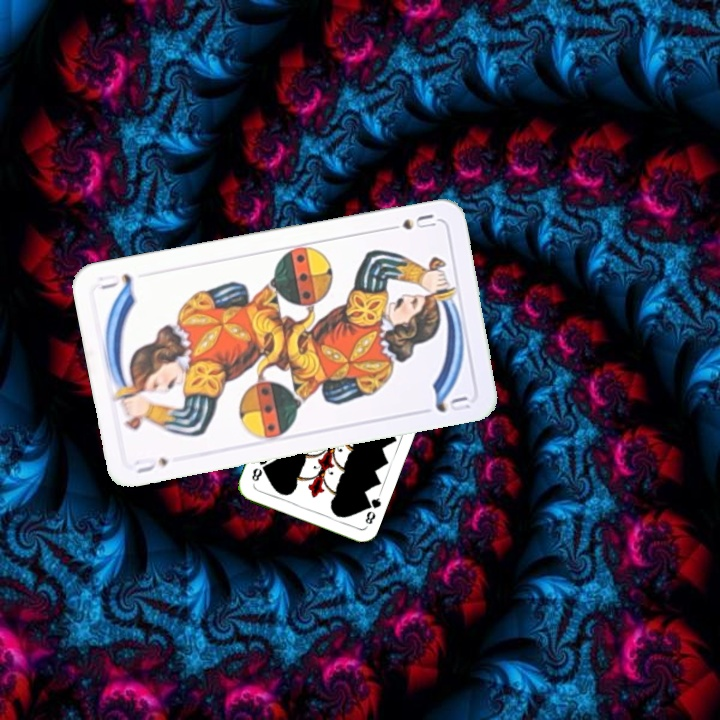G8: (360, 491, 384, 527)
SU: (381, 210, 438, 234), (130, 453, 171, 476)
